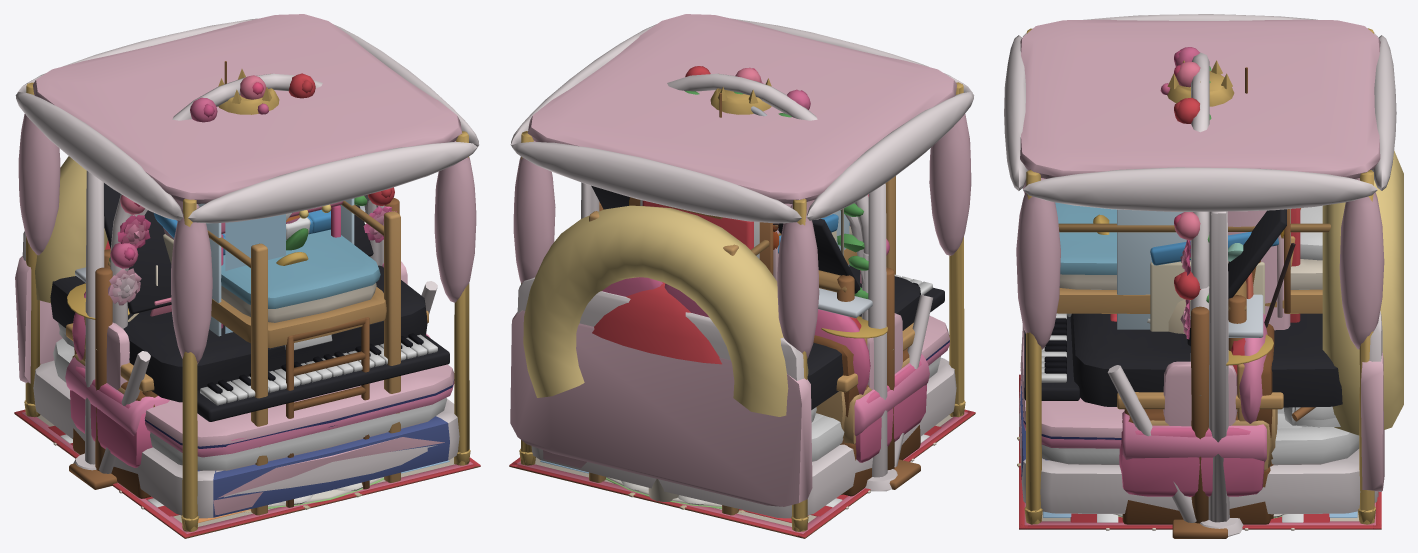
Rendered from furniture2.glb.
The picture shows the model from 3 angles, left to right: view 1: azimuth 30°, elevation 25°; view 2: azimuth 150°, elevation 25°; view 3: azimuth 270°, elevation 25°; orthographic projection. The views are drawn at different scales.
Visible parts, largest first — view 1: baldachinbett, hochbett, fluegel, mondbett, pfingstrosenbett, herzbogen, liebesschaukel, dusche, herzsofa, zimmerhaengematte, pfingstrosensofa, pfingstrosenbogen (+10 smaller); view 2: baldachinbett, pfingstrosenbett, mondbett, liebesschaukel, pilzbett, fluegel, herzbogen, pfingstrosensofa, herzsofa, abcteppich, karoteppich, herzbett (+13 smaller); view 3: baldachinbett, fluegel, mondbett, hochbett, liebesschaukel, herzsofa, pfingstrosensofa, herzbogen, dusche, pfingstrosenbett, zimmerhaengematte, strandkorbsessel (+15 smaller).
Part boxes in pixels (<box>): baldachinbett: <box>15,14,479,531</box>; hochbett: <box>207,201,400,515</box>; fluegel: <box>50,183,449,421</box>; mondbett: <box>35,156,454,517</box>; pfingstrosenbett: <box>15,256,469,529</box>; herzbogen: <box>109,73,394,328</box>; liebesschaukel: <box>73,171,437,473</box>; dusche: <box>198,198,354,336</box>; herzsofa: <box>70,366,152,467</box>; zimmerhaengematte: <box>69,198,399,489</box>; pfingstrosensofa: <box>65,291,429,435</box>; pfingstrosenbogen: <box>108,195,396,305</box>; baldachinbett: <box>510,14,974,531</box>; pfingstrosenbett: <box>510,310,965,527</box>; mondbett: <box>523,205,949,423</box>; liebesschaukel: <box>581,182,932,491</box>; pilzbett: <box>592,282,721,501</box>; fluegel: <box>591,185,944,409</box>; herzbogen: <box>667,66,889,320</box>; pfingstrosensofa: <box>814,309,929,435</box>; herzsofa: <box>855,361,926,462</box>; abcteppich: <box>517,411,967,533</box>; karoteppich: <box>509,409,975,537</box>; herzbett: <box>519,277,965,531</box>; baldachinbett: <box>1004,14,1396,524</box>; fluegel: <box>1024,209,1342,407</box>; mondbett: <box>1020,150,1403,479</box>; hochbett: <box>1055,202,1330,313</box>; liebesschaukel: <box>1107,211,1243,536</box>; herzsofa: <box>1119,313,1265,496</box>; pfingstrosensofa: <box>1122,321,1267,462</box>; herzbogen: <box>1174,47,1211,361</box>; dusche: <box>1117,209,1190,329</box>; pfingstrosenbett: <box>1019,351,1384,519</box>; zimmerhaengematte: <box>1172,306,1227,538</box>; strandkorbsessel: <box>1150,231,1278,331</box>.
Bounding box in the file's own units: 2.2 × 2.43 × 2.16.
